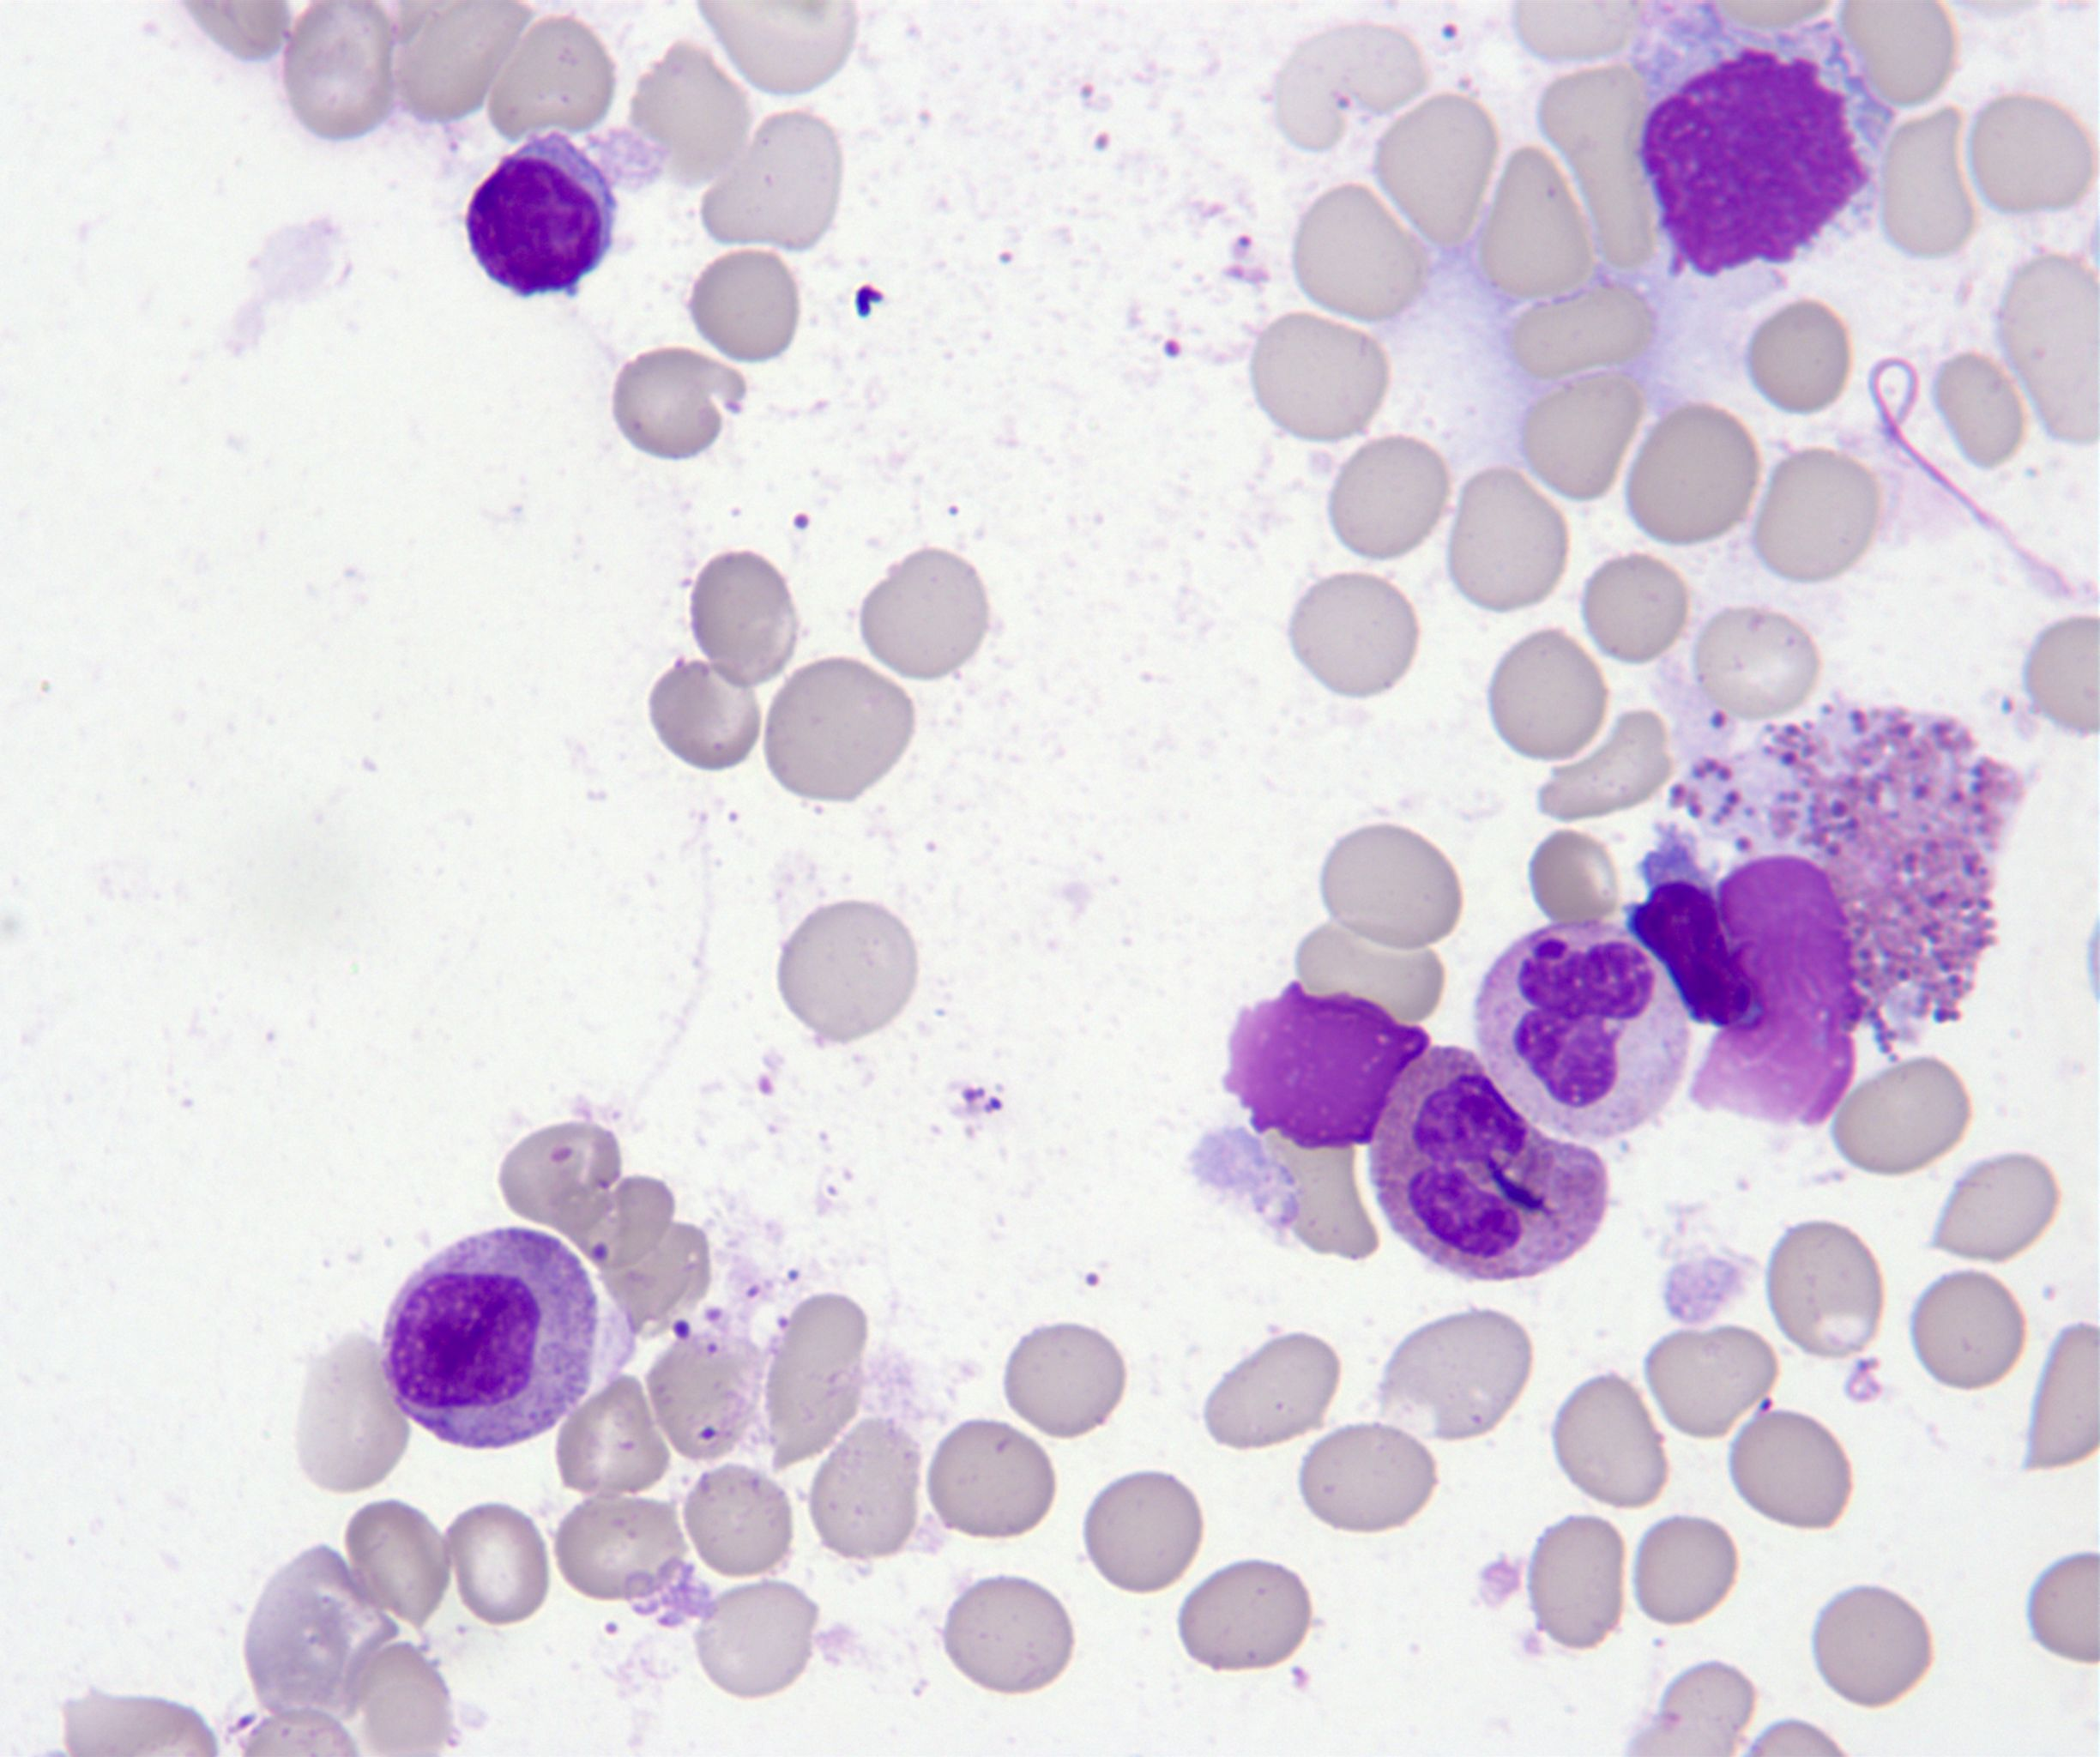3: (384, 1228, 597, 1448)
32: (1615, 818, 1760, 1028), (469, 133, 619, 298)
6: (1477, 921, 1688, 1138)
E4: (1369, 1047, 1606, 1281)
x: (1669, 703, 2032, 1124), (1624, 3, 1898, 281), (1223, 982, 1428, 1150)
